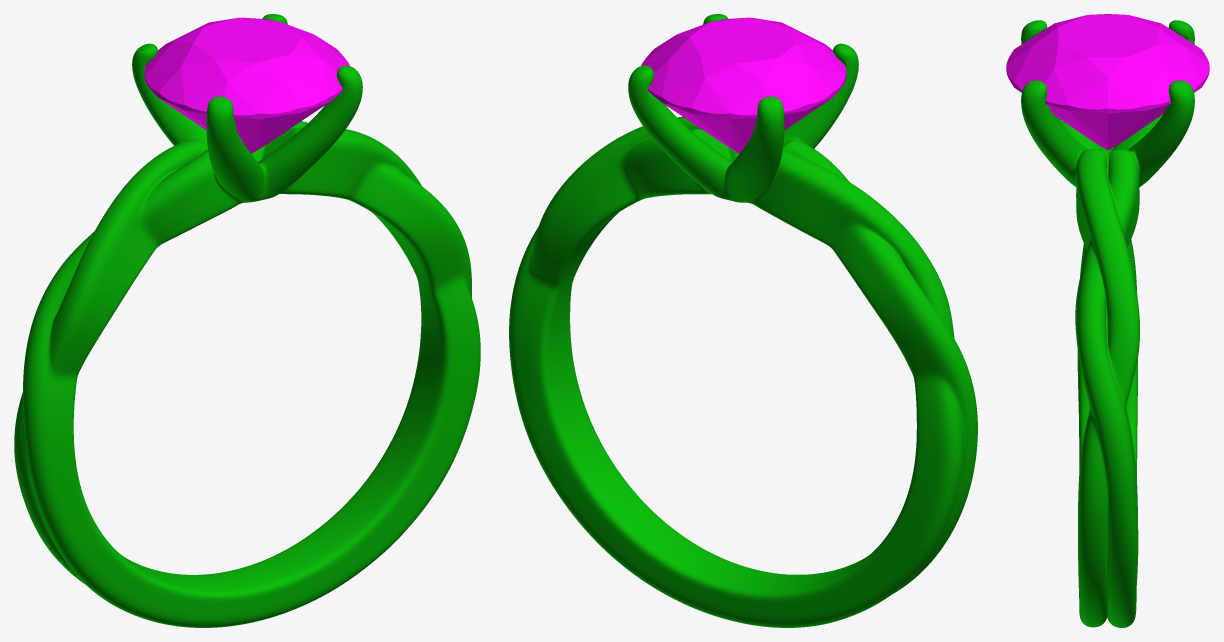
Rendered from BE1M56D_RD_200ct_RENDER.glb.
The picture shows the model from 3 angles, left to right: view 1: azimuth 30°, elevation 25°; view 2: azimuth 150°, elevation 25°; view 3: azimuth 270°, elevation 25°; orthographic projection.
Visible parts, largest first — view 1: Metal 01, CS_Diamond_Round; view 2: Metal 01, CS_Diamond_Round; view 3: Metal 01, CS_Diamond_Round.
Part boxes in pixels (x1,y1,x2,y2): Metal 01: (14,14,480,627); CS_Diamond_Round: (144,17,349,153); Metal 01: (509,14,977,627); CS_Diamond_Round: (641,17,846,153); Metal 01: (1021,20,1194,627); CS_Diamond_Round: (1006,14,1209,150).
Size of the model in its own units: 20.34 by 24.62 by 8.
